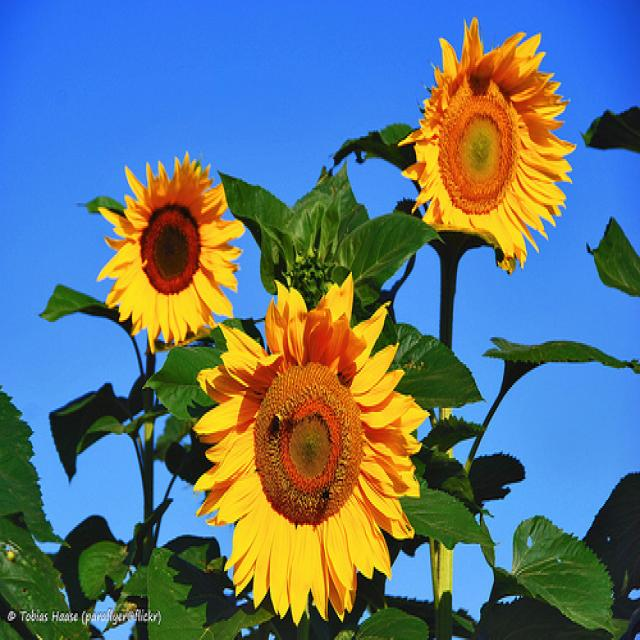sunflower: (189, 264, 431, 628), (392, 12, 581, 279), (94, 144, 245, 350)
